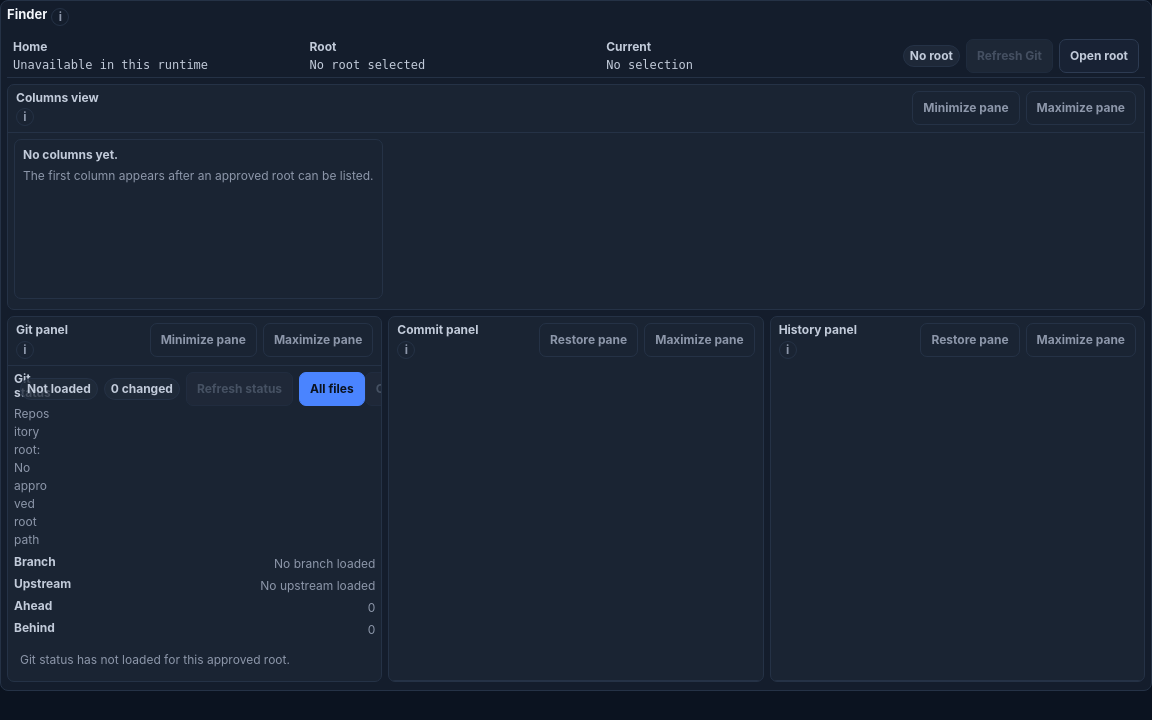
Scenario: FinderWidget › shows repository path errors inside the Finder Git panel
Click the button "Open root" at {"x": 1099, "y": 56}, box [1059, 39, 1139, 73]
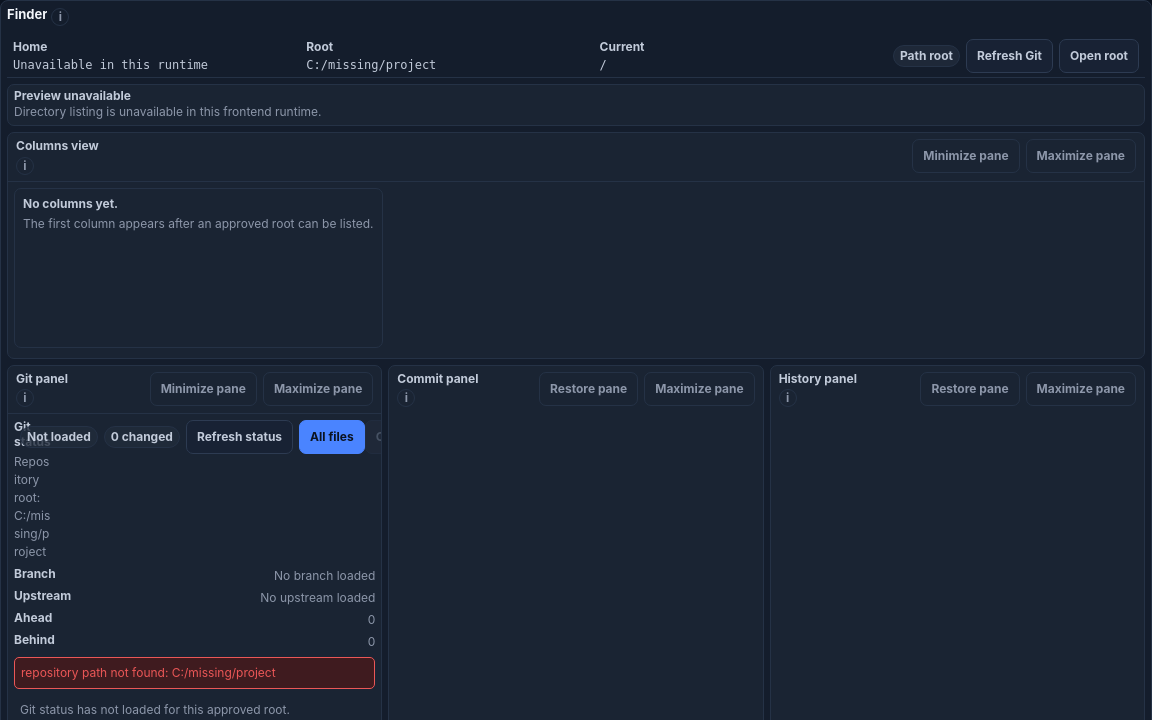
Expected: the text "Git status has not loaded for this approved root." is shown, [20, 702, 290, 717]
Now the text "Repository root: C:/missing/project" is shown, box [14, 453, 51, 561]
Now the text "repository path not found: C:/missing/project" is shown, box [14, 657, 375, 689]
